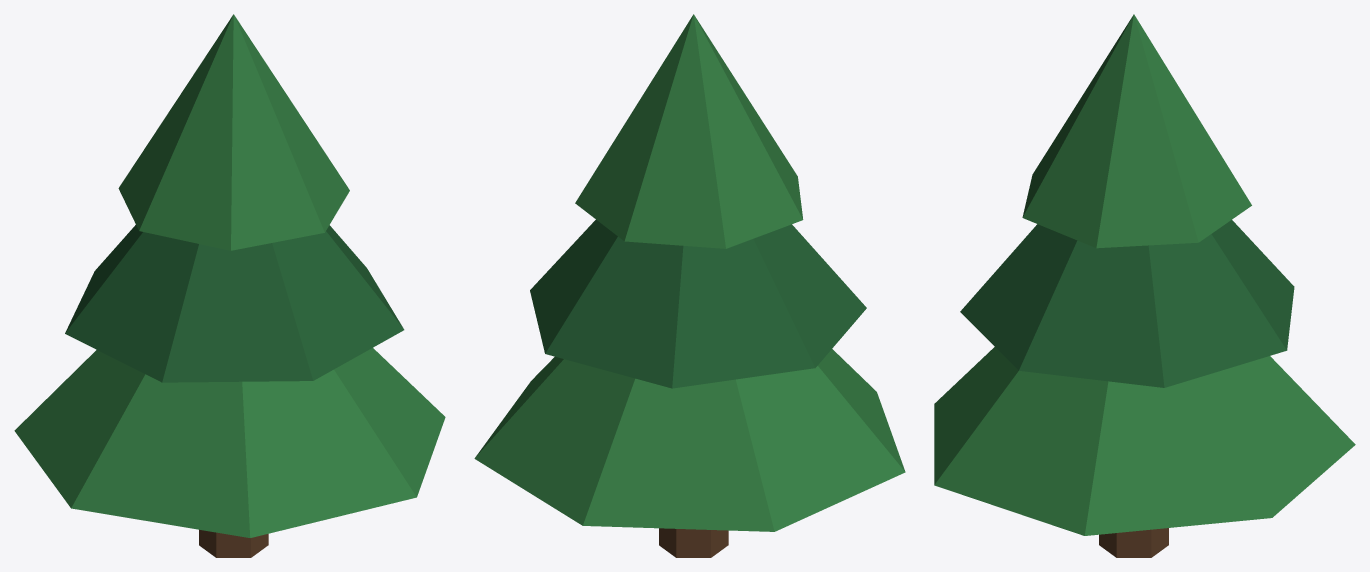
The model's file is tree.glb.
The picture shows the model from 3 angles, left to right: view 1: azimuth 30°, elevation 25°; view 2: azimuth 150°, elevation 25°; view 3: azimuth 270°, elevation 25°; orthographic projection.
Visible parts, largest first — view 1: tree; view 2: tree; view 3: tree.
Boxes of the visible parts, left/top/right/bottom form: tree: left=14, top=14, right=445, bottom=557; tree: left=474, top=14, right=905, bottom=557; tree: left=934, top=14, right=1355, bottom=557.
Bounding box in the file's own units: 2.73 × 3.7 × 2.66.
